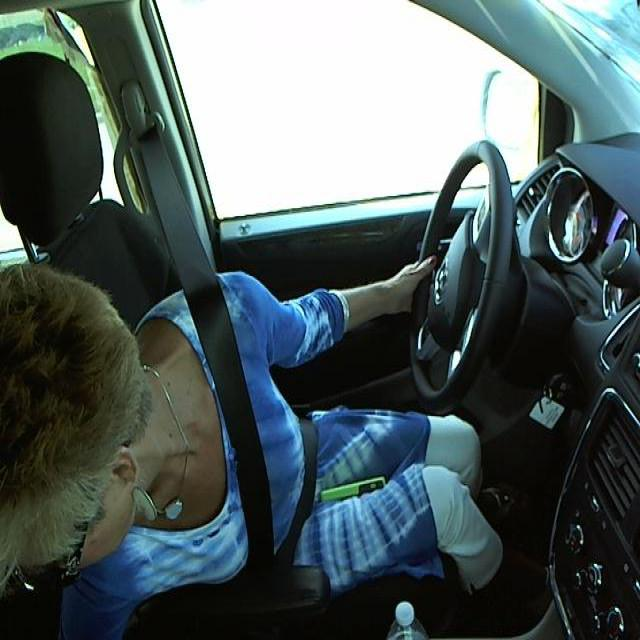seatbelt: (184, 286, 322, 574)
